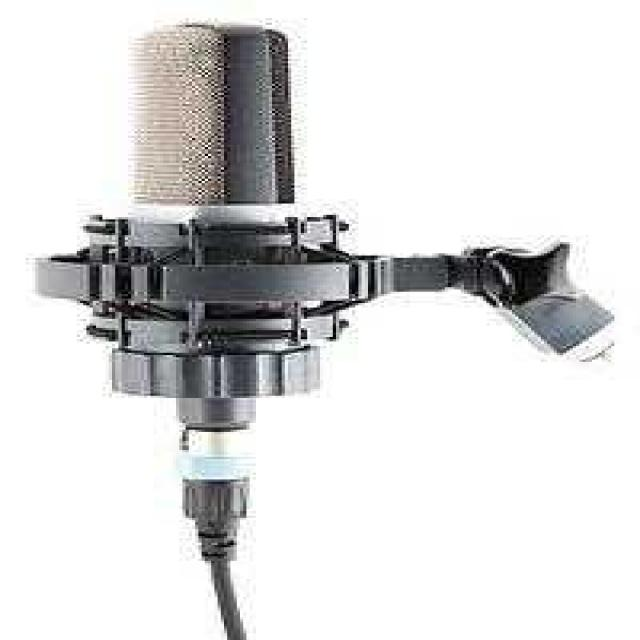microphone: (103, 21, 333, 624)
